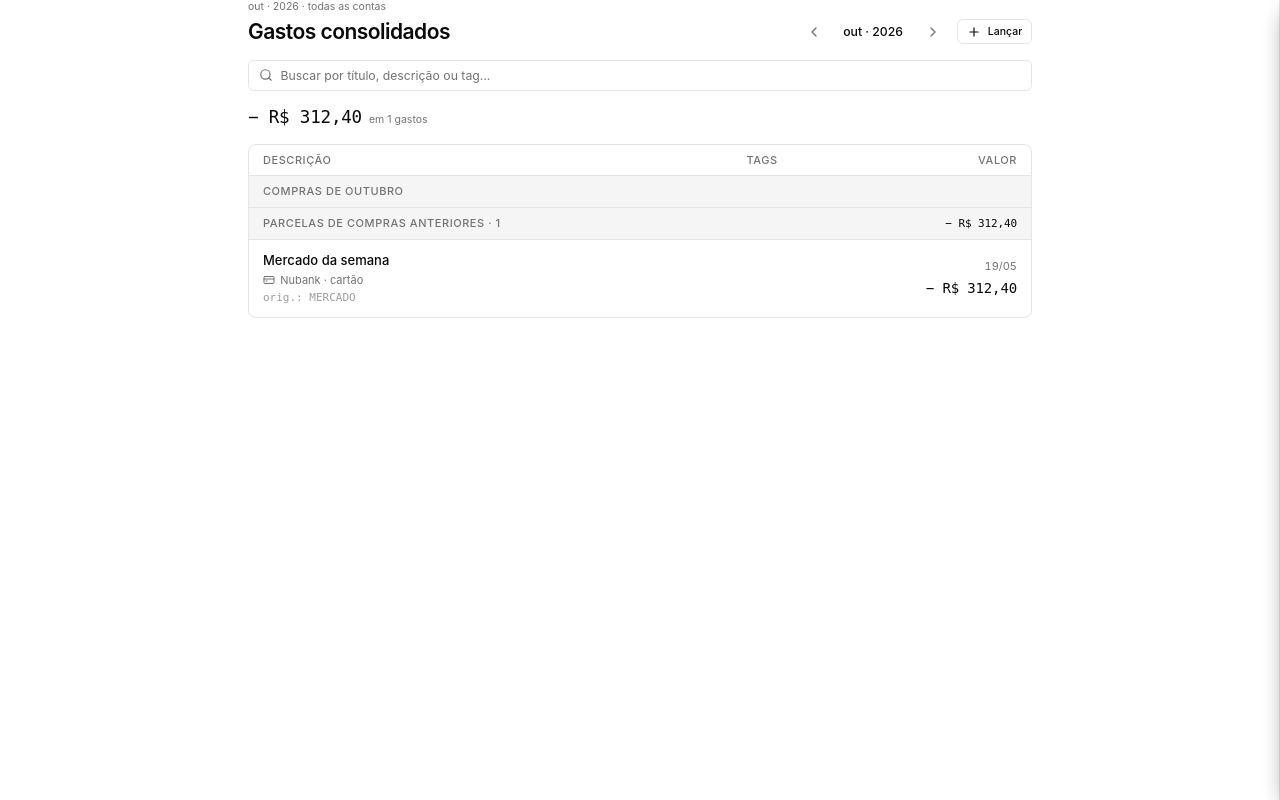
Test: <GastosPage /> › shows the edit history when toggled in the sheet
Click the button with test id "gasto-row-g1": (326, 260) [249, 240, 1031, 317]
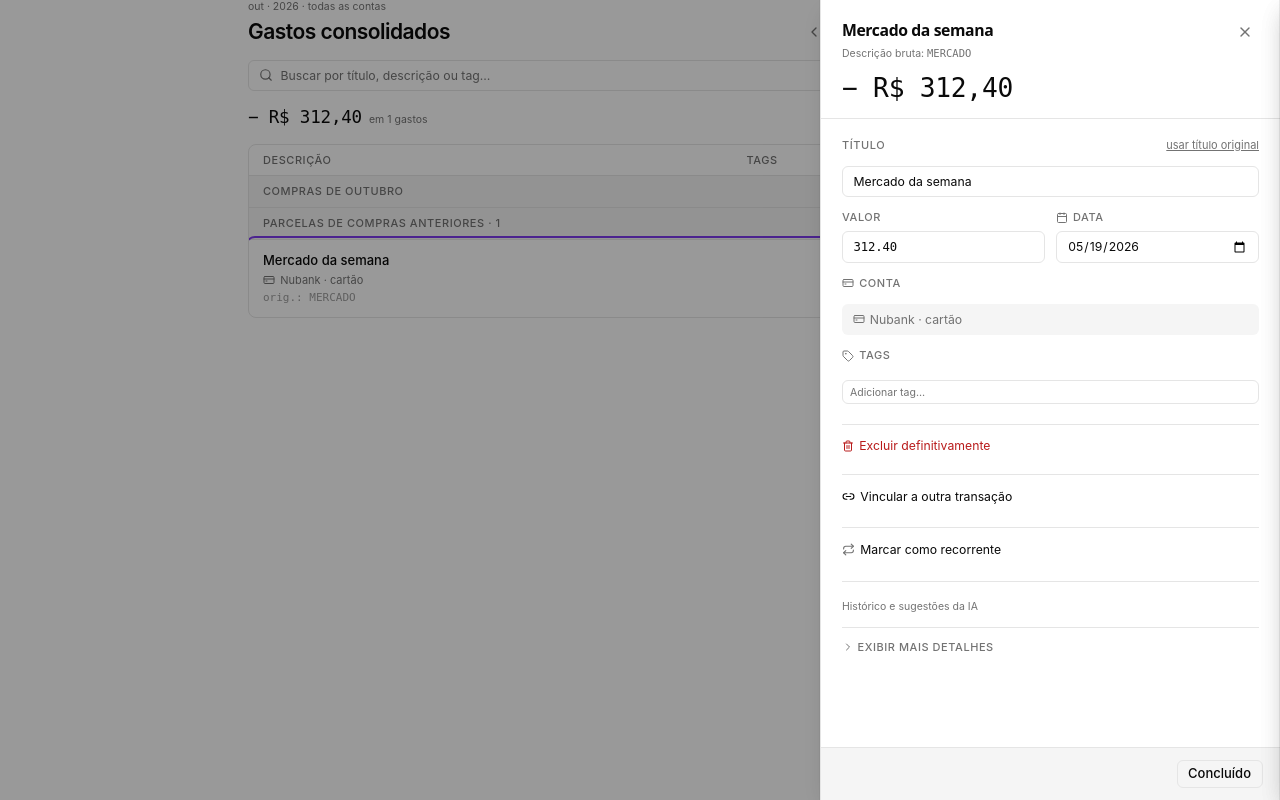
Click the button with test id "history-toggle-g1": (910, 607) [842, 600, 978, 614]
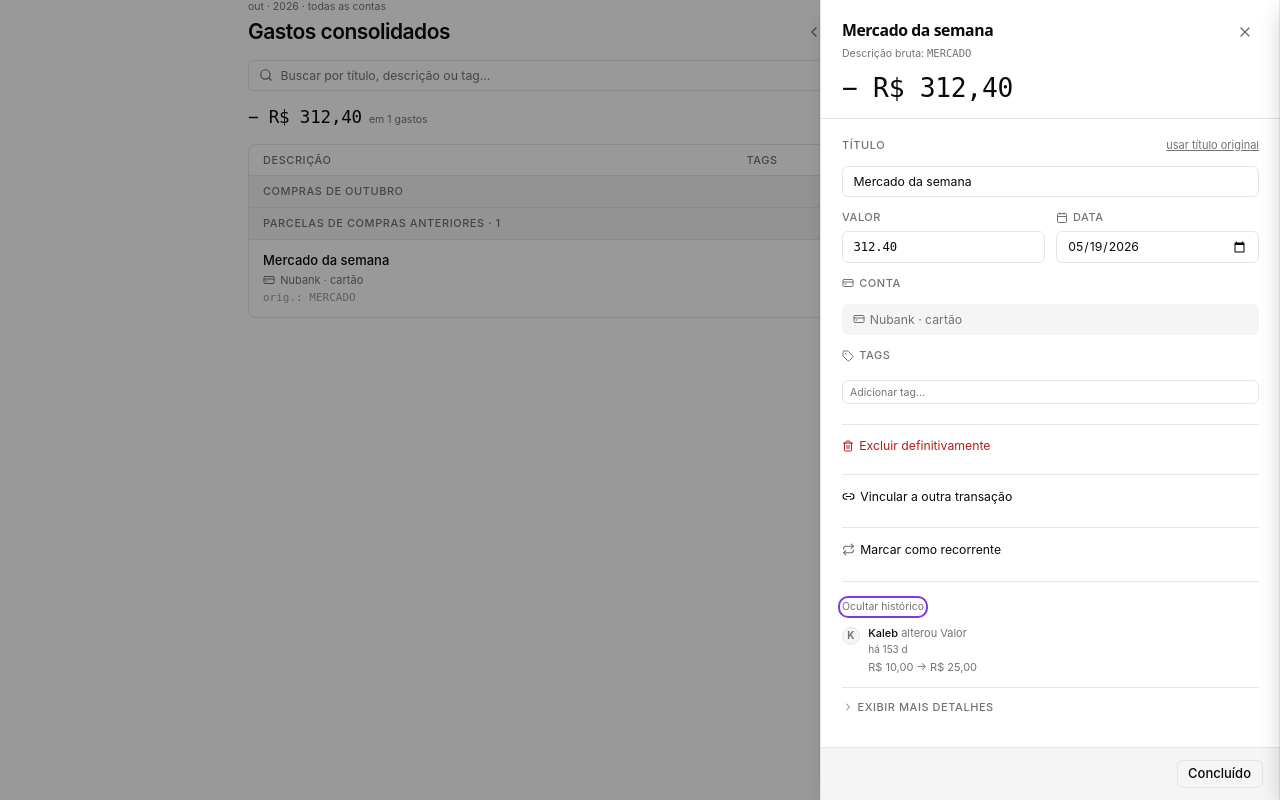
Expected: the element with test id "history-g1" is shown, [842, 626, 977, 674]
Expected: the text "alterou Valor" is shown, [898, 626, 967, 640]
